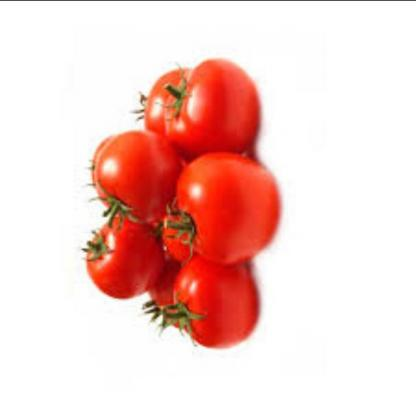tomato: (163, 151, 282, 264), (166, 252, 262, 356), (169, 55, 258, 157), (88, 124, 179, 223), (77, 217, 160, 308), (134, 50, 190, 146)
